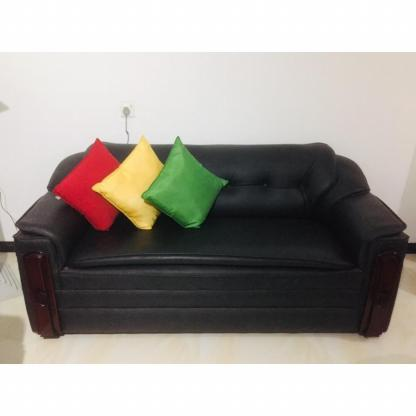Sofa: (14, 137, 408, 343)
